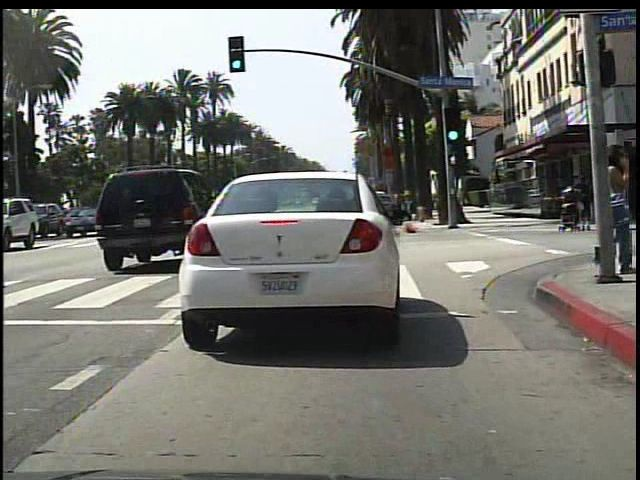person: (586, 141, 640, 279)
